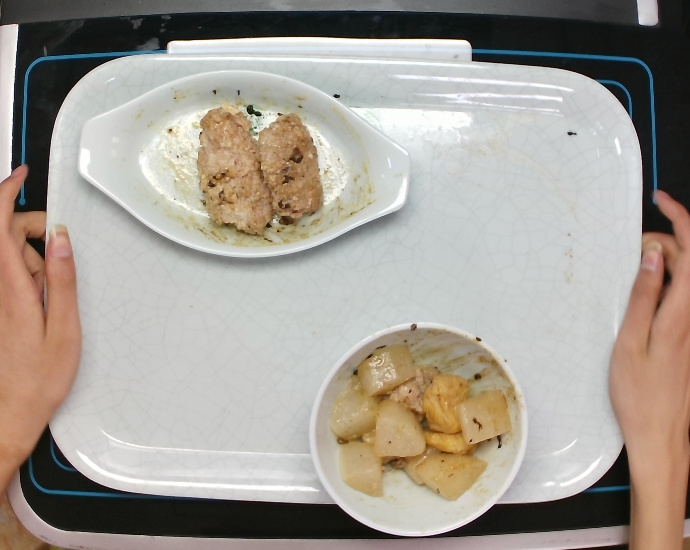JYsf-Fan_Wan: (300, 315, 534, 546)
JYsf-Yu_Pan: (76, 63, 418, 267)
